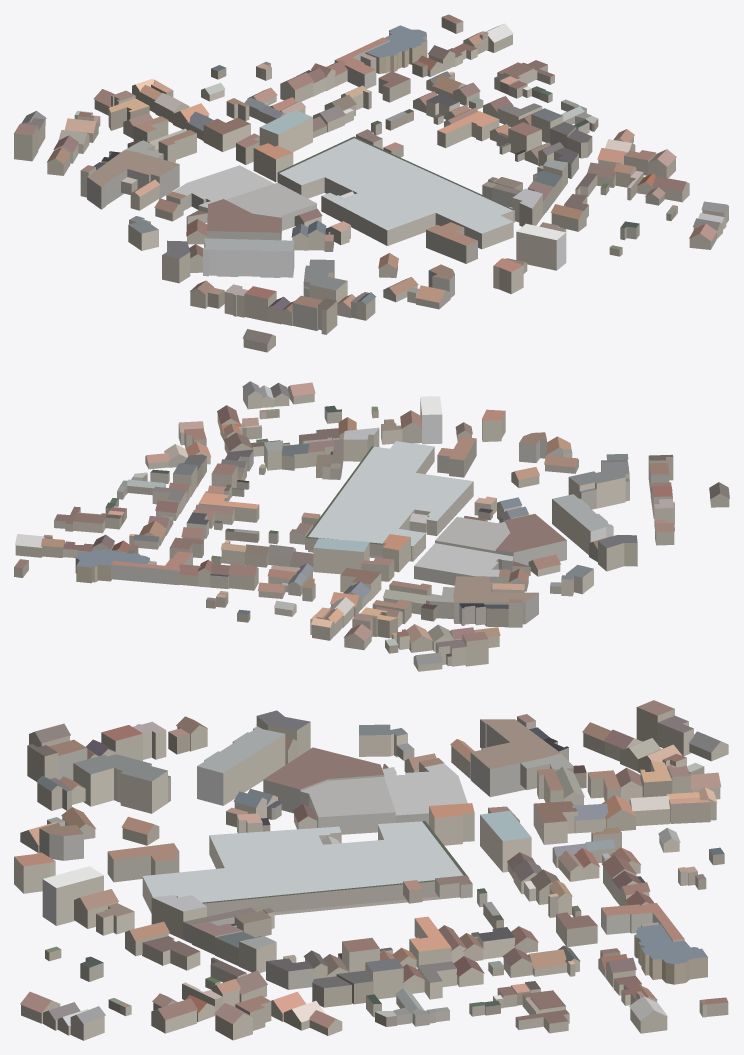
3 views of the same model, one above another, from view 1: azimuth 30°, elevation 25°; view 2: azimuth 150°, elevation 25°; view 3: azimuth 270°, elevation 25° (orthographic). The views are drawn at different scales.
Parts seen in each view (by area): view 1: tuile; view 2: tuile; view 3: tuile.
Boxes of the visible parts, x1,y1,x2,y2 form: tuile: [14, 14, 728, 352]; tuile: [14, 381, 729, 671]; tuile: [14, 700, 728, 1040].
Bounding box in the file's own units: 264 × 20.31 × 260.
